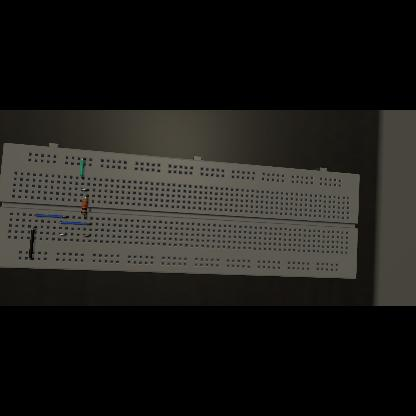breadboard: (0, 143, 360, 279)
resistor: (82, 200, 88, 214)
wire: (29, 228, 37, 260), (35, 214, 69, 218), (80, 158, 86, 180), (60, 222, 92, 226), (58, 234, 67, 236), (81, 189, 89, 191), (83, 235, 91, 237), (86, 196, 88, 199), (84, 216, 86, 219)
